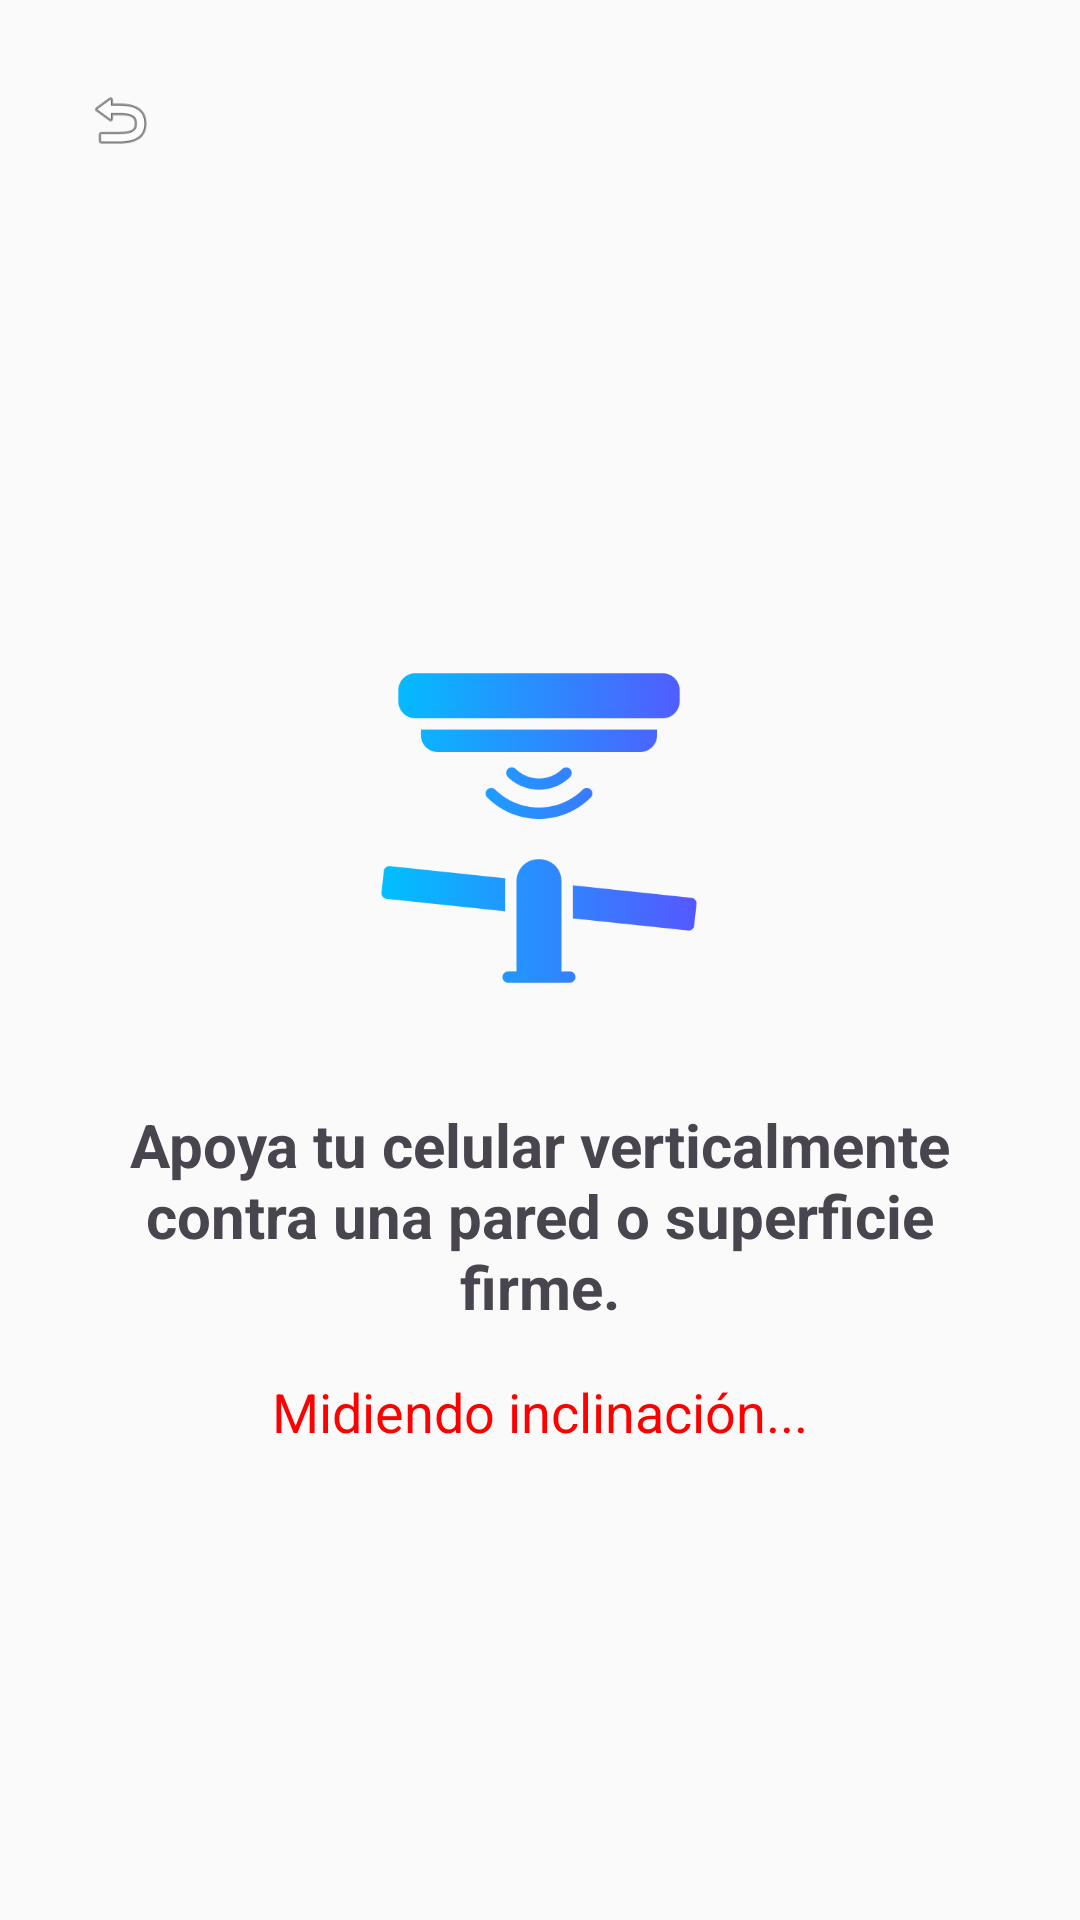

Named icons in this screenshot (1080px x 1920px) and their centers, [x,y]:
calibracion: [539,828]
revert: [121,120]
